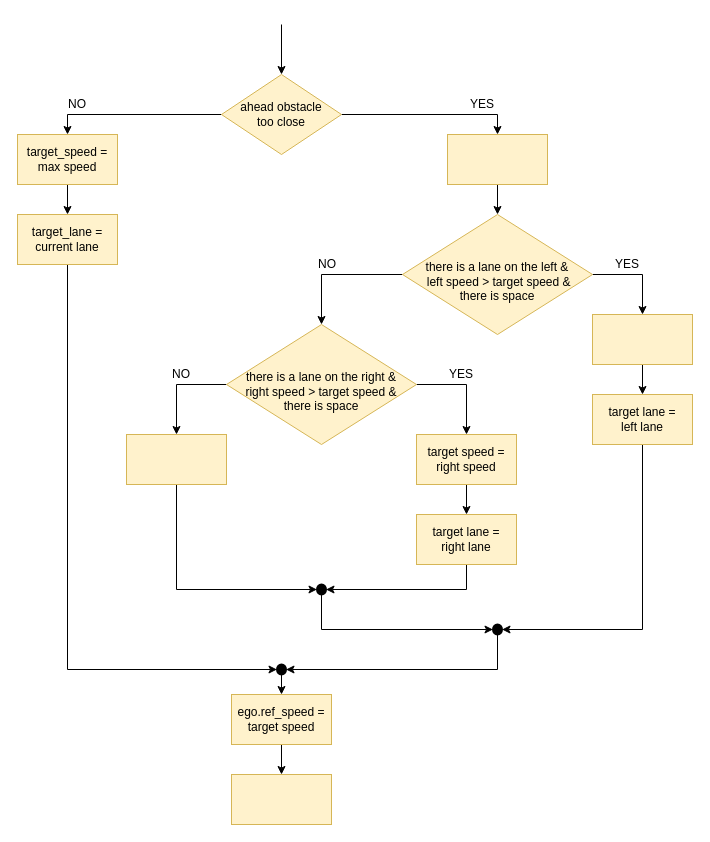
The diagram is 710 pixels wide and 842 high, and some of its shapes have lost their labels. The centre of each missing label's shape, as x and y in pixels:
"ego.target_lane = target lane" belongs at (x=281, y=799).
"target lane = current lane" belongs at (x=176, y=459).
"target speed = left speed" belongs at (x=642, y=339).
"target_speed = ahead obstacle speed" belongs at (x=497, y=159).
